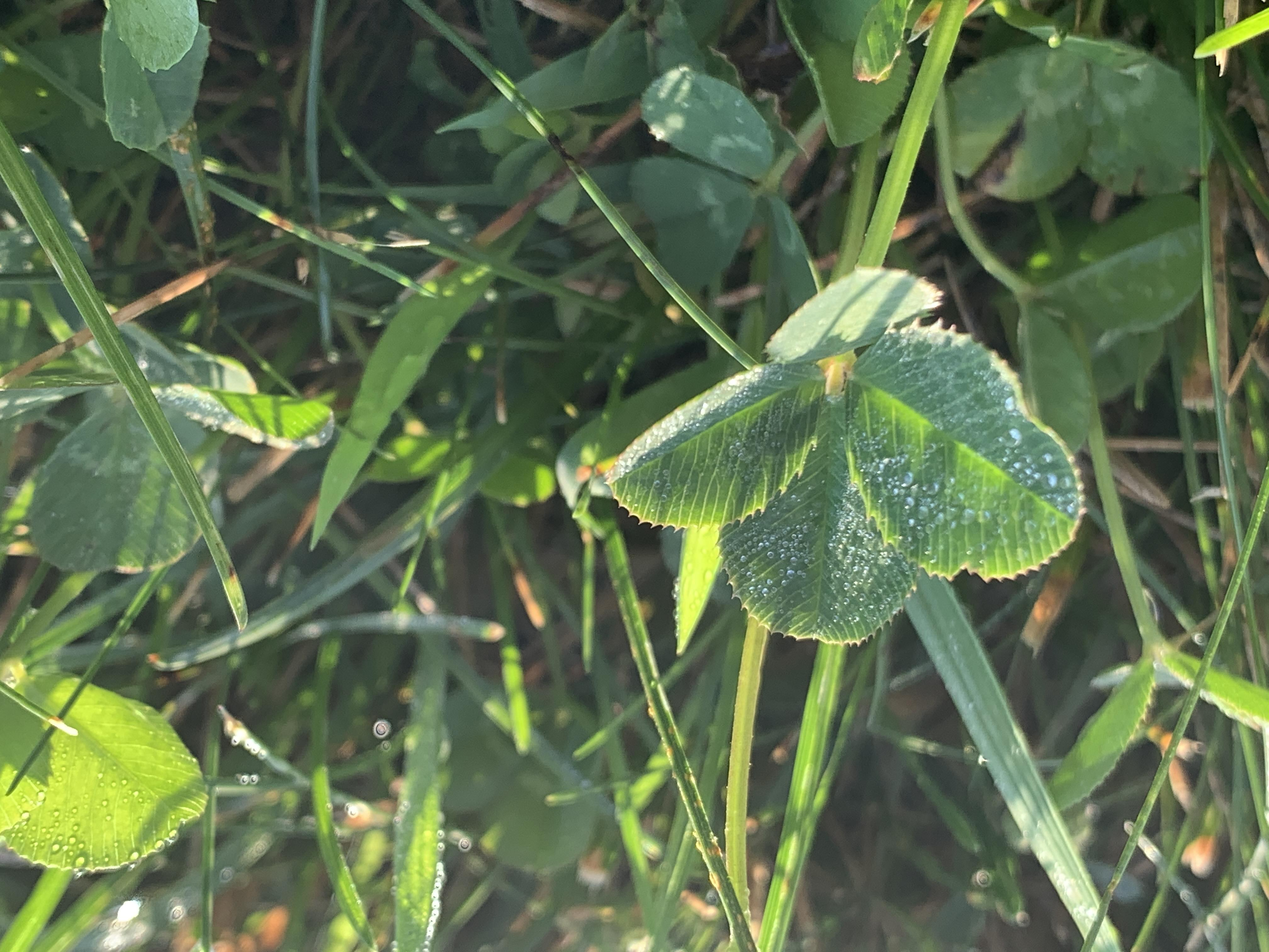4-Leaf-Clovers: (188, 303, 660, 681)
